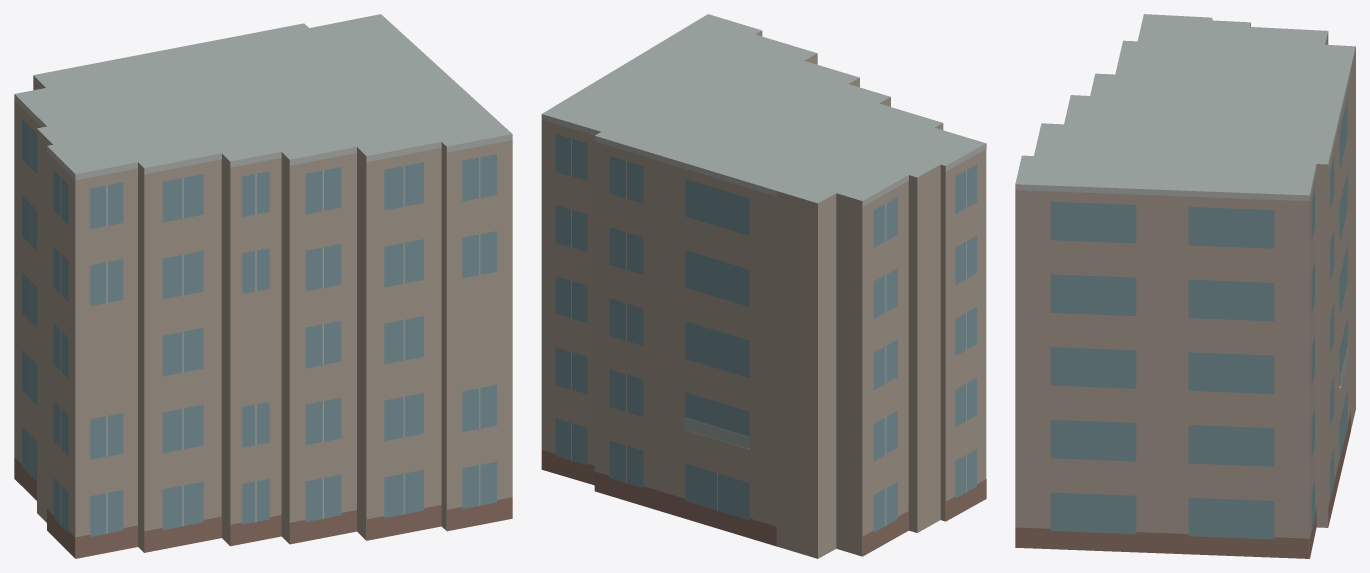
The model's file is survey-upis-32752789.glb.
The picture shows the model from 3 angles, left to right: view 1: azimuth 30°, elevation 25°; view 2: azimuth 150°, elevation 25°; view 3: azimuth 270°, elevation 25°; orthographic projection. The views are drawn at different scales.
Visible parts, largest first — view 1: survey-upis-32752789.tmp; view 2: survey-upis-32752789.tmp; view 3: survey-upis-32752789.tmp.
Part boxes in pixels (x1=…): survey-upis-32752789.tmp: x1=14, y1=14, x2=512, y2=558; survey-upis-32752789.tmp: x1=541, y1=14, x2=986, y2=558; survey-upis-32752789.tmp: x1=1015, y1=14, x2=1355, y2=558.
Bounding box in the file's own units: 16.49 × 15.4 × 13.08.
